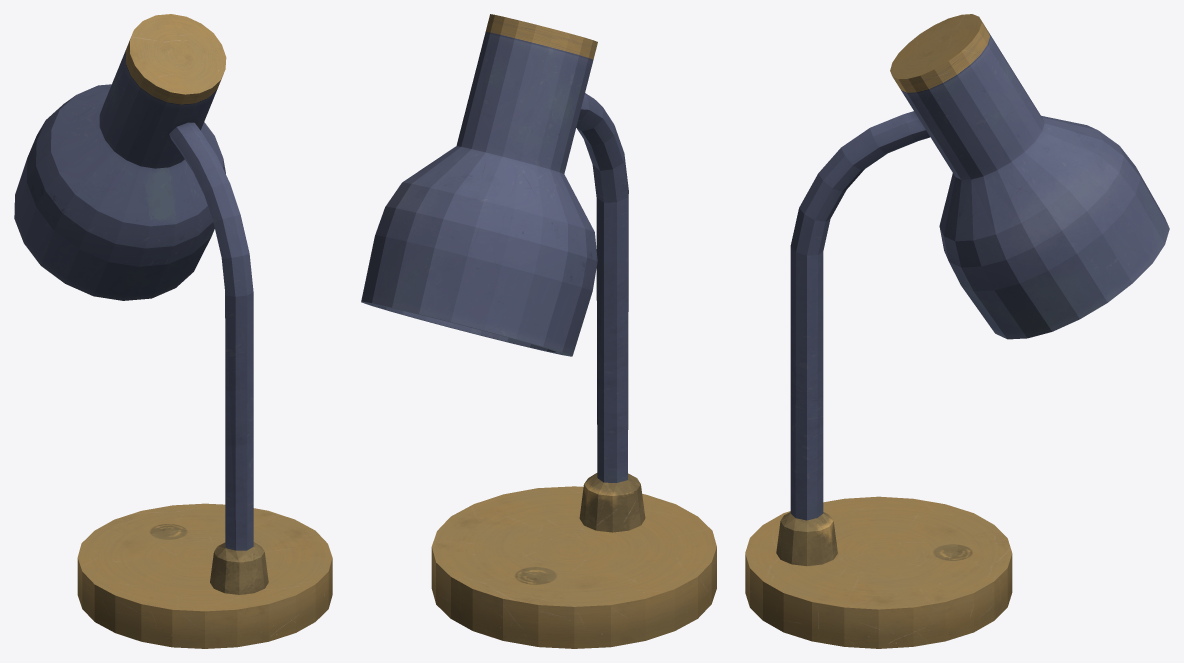
File: P_Lamp_006_S1_M03.obj
3 renders of one model, left to right at view 1: azimuth 30°, elevation 25°; view 2: azimuth 150°, elevation 25°; view 3: azimuth 270°, elevation 25°, orthographic. The views are drawn at different scales.
Size of the model in its own units: 0.3053 by 0.7186 by 0.4852.
Materials: 1 (1 with a texture image).
